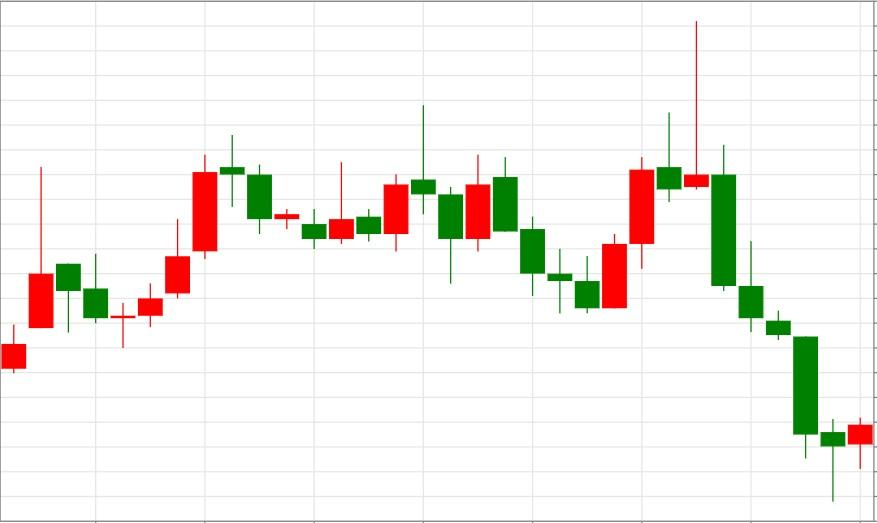bullish_engulfing_rise: (492, 156, 629, 314)
evening_star_fall: (108, 134, 273, 347)
three_black_crows_fall: (574, 20, 791, 340)
